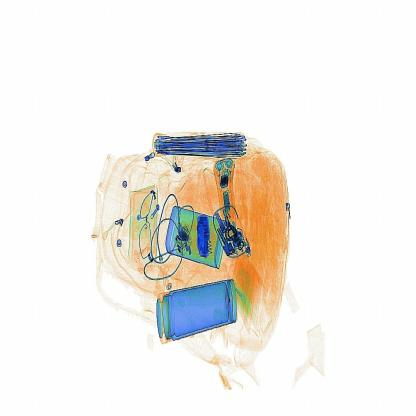scissors: (189, 207, 222, 267)
